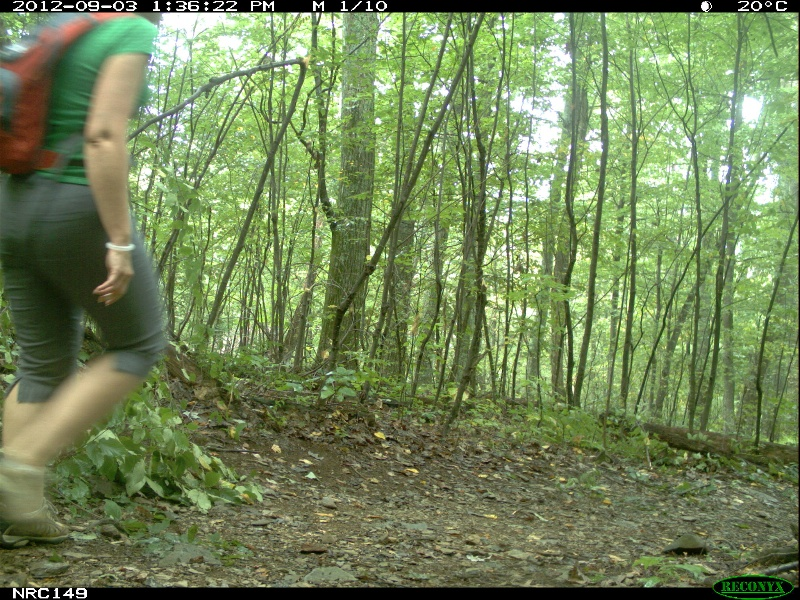human: (3, 15, 167, 557)
human legs: (1, 180, 167, 557)
